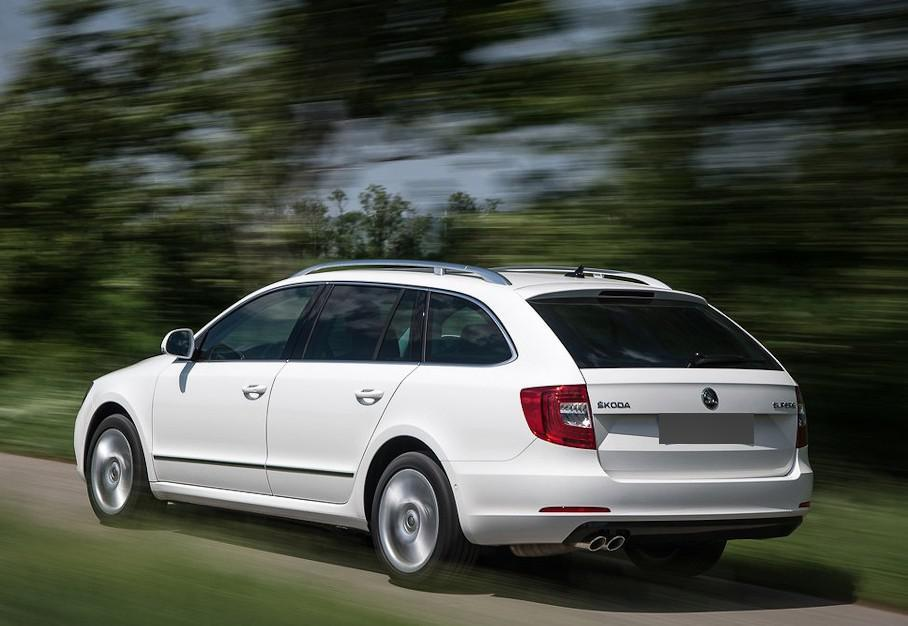Wagon: (73, 259, 815, 588)
